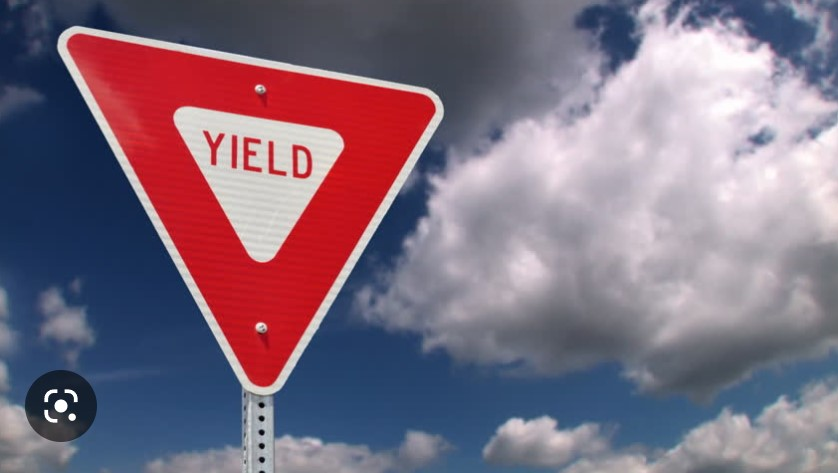Yeild: (52, 16, 449, 398)
